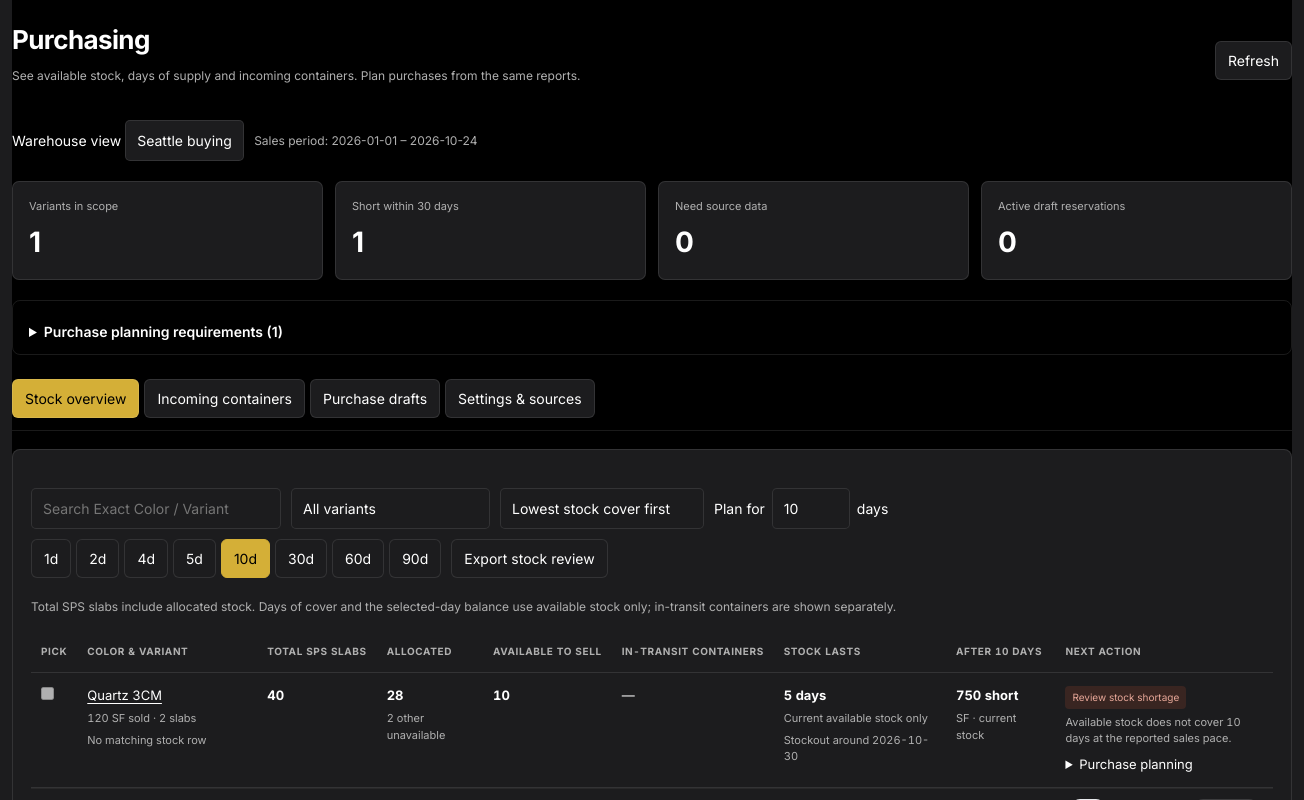
Test: live purchasing stock columns › renders the requested counts and exact cover, and changes the forecast for arbitrary days
This screenshot has width=1304, height=800.
Expected: the column heading "Total SPS slabs" is shown, [257,630,377,672]
Expected: the column heading "Allocated" is shown, [377,630,483,672]
Click the button "2d". click: coordinates (98, 558)
box: [76,538,119,578]
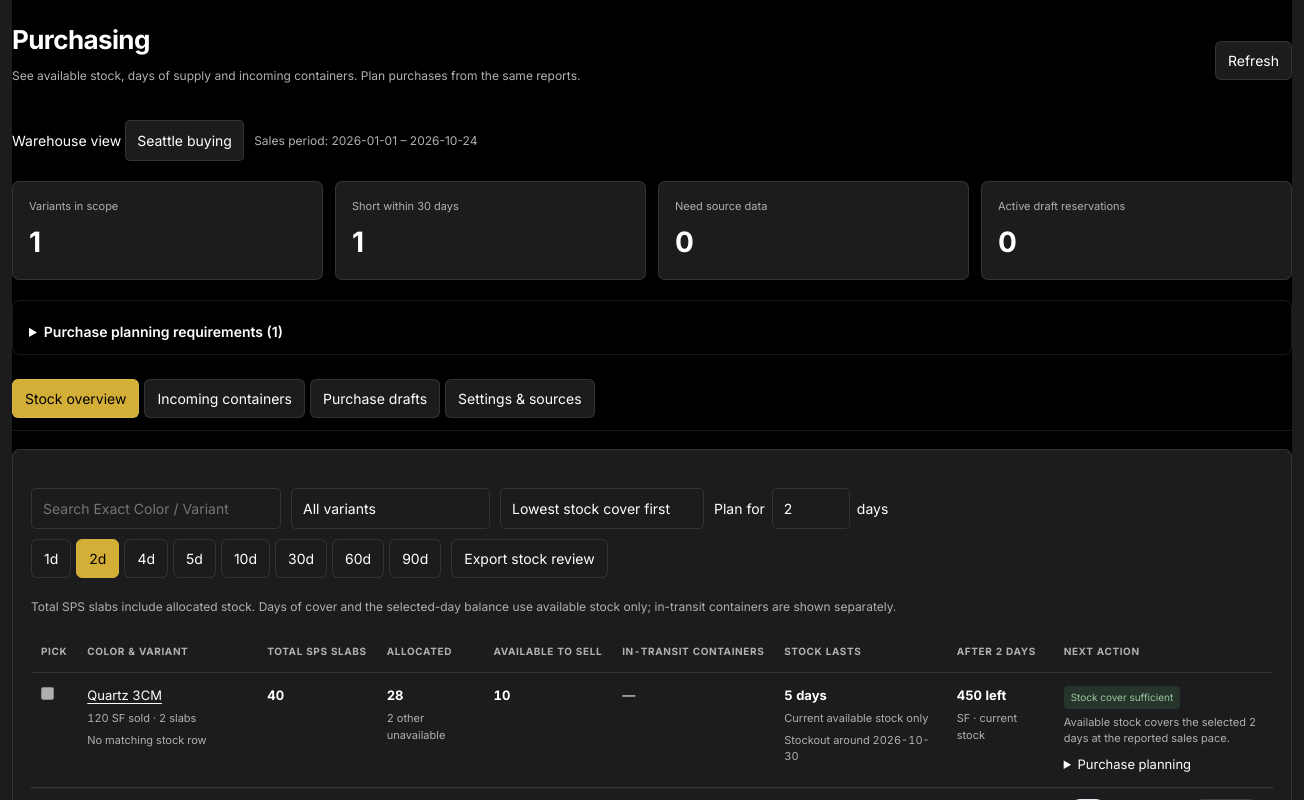
Now the text "450 left" is shown, box [957,686,1006,702]
Replace the text in the number field named "Planning days" with "7". click: coordinates (811, 508)
box: [772,488,850,528]
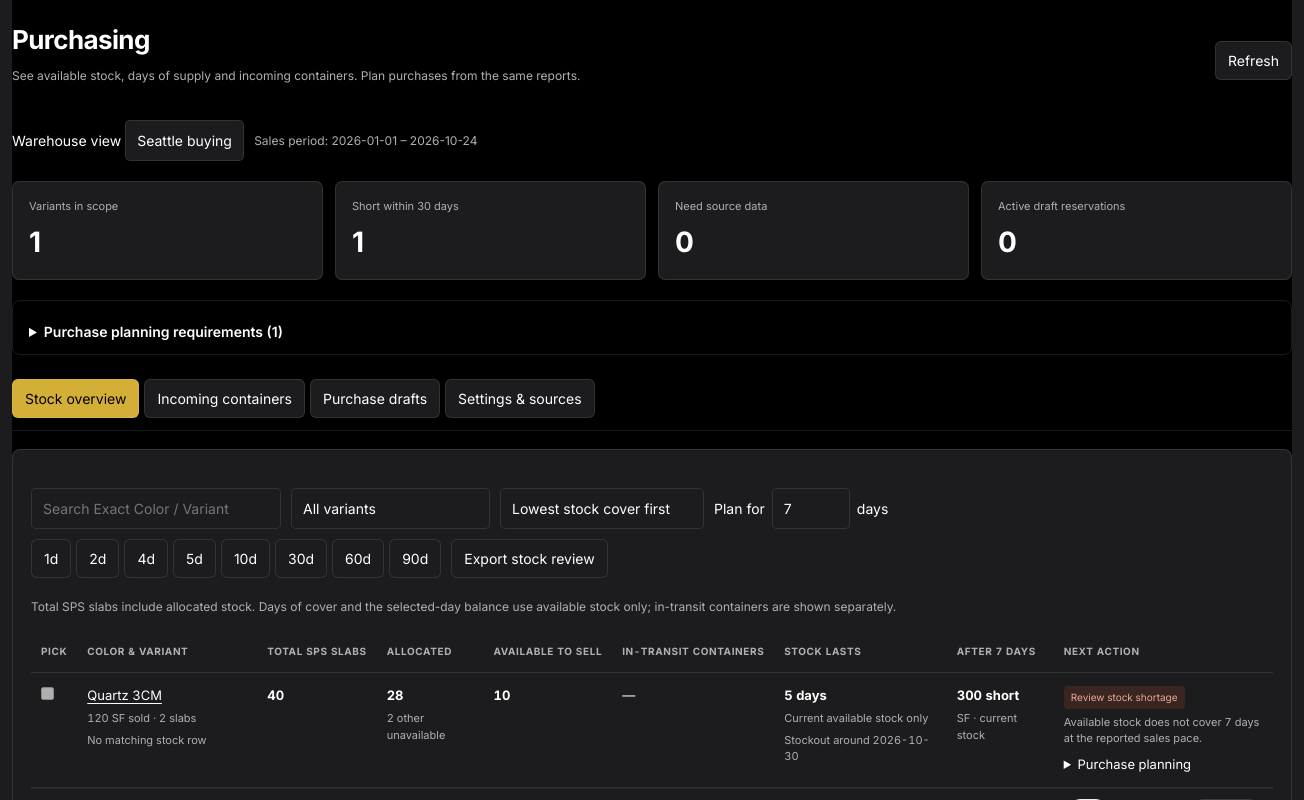
Now the column heading "After 7 days" is shown, box [947,630,1054,672]
Now the text "300 short" is shown, box [957,686,1019,702]
Replace the text in the number field named "Planning days" with "0". click: coordinates (811, 508)
box: [772,488,850,528]
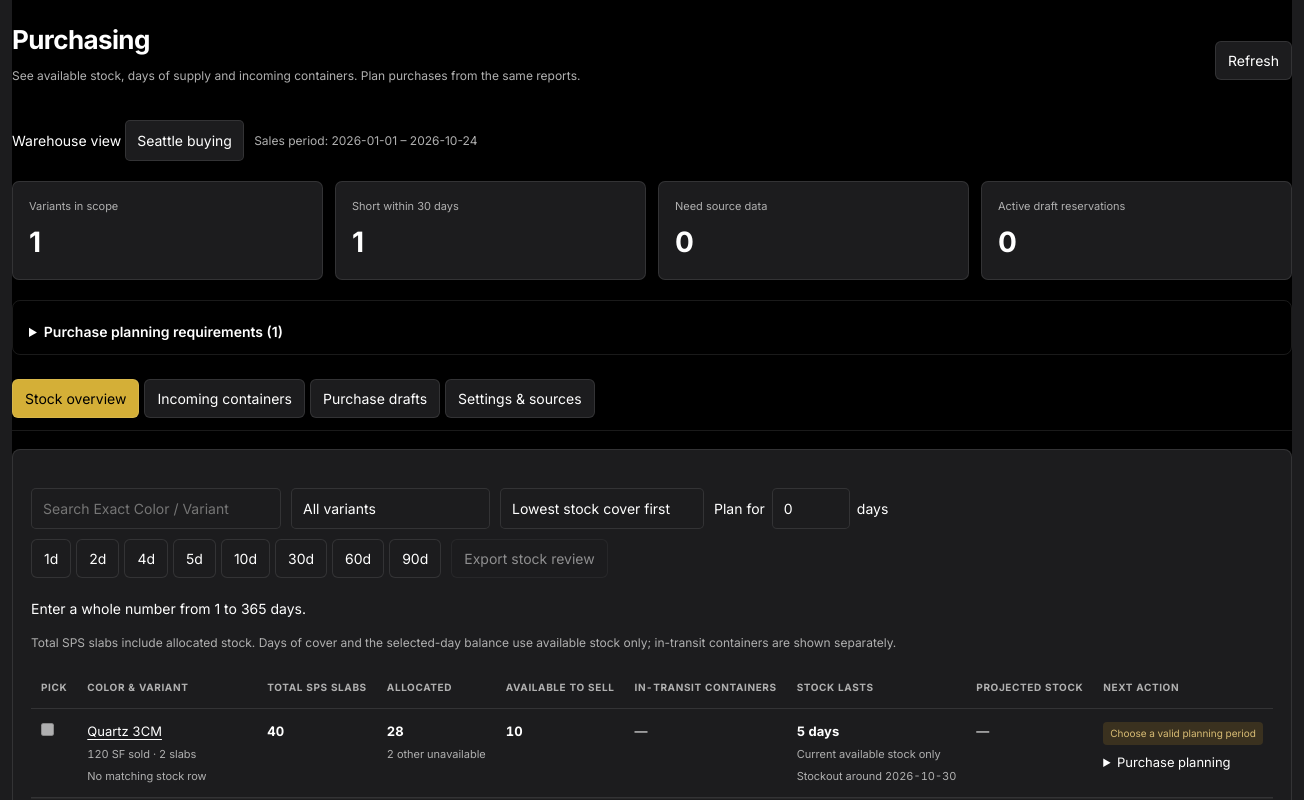
Now the text "Enter a whole number from 1 to 365 days." is shown, box [31,600,306,616]
